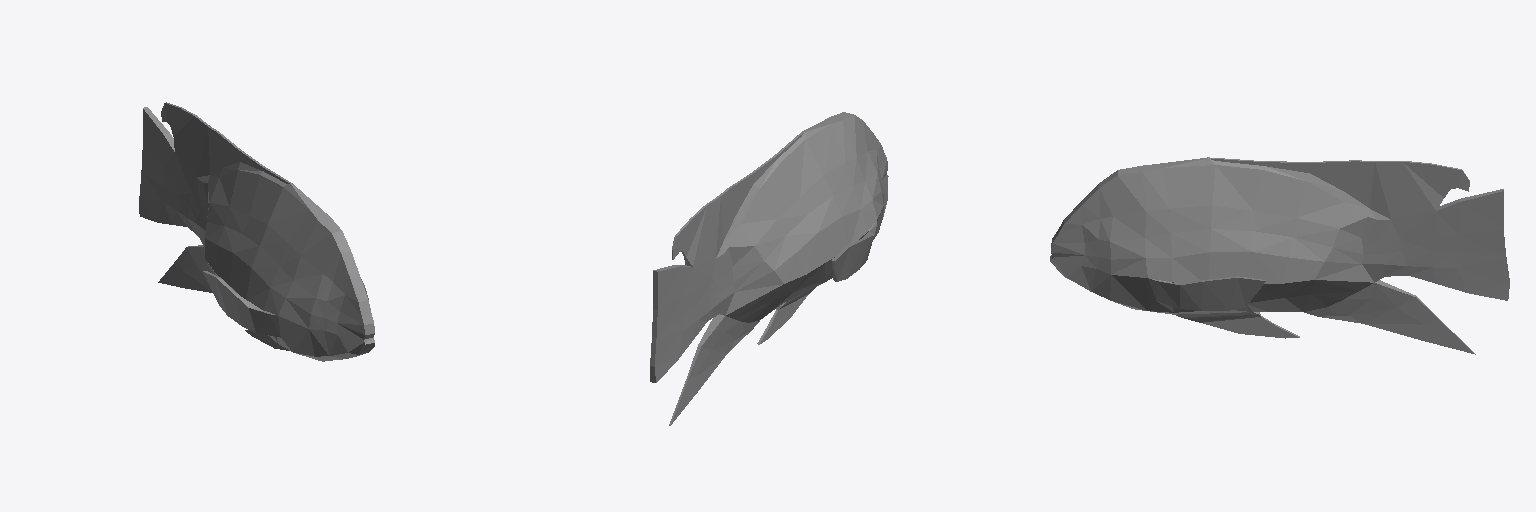
The model's file is TropicalFish03.obj.
3 renders of one model, left to right at view 1: azimuth 30°, elevation 25°; view 2: azimuth 150°, elevation 25°; view 3: azimuth 270°, elevation 25°, orthographic.
Visible parts, largest first — view 1: TropicalFish03; view 2: TropicalFish03; view 3: TropicalFish03.
Part boxes in pixels (x1,y1,x2,y2): TropicalFish03: (139, 102, 374, 361); TropicalFish03: (650, 112, 888, 425); TropicalFish03: (1050, 157, 1509, 354).
Bounding box in the file's own units: 1.85 × 2.85 × 6.04.